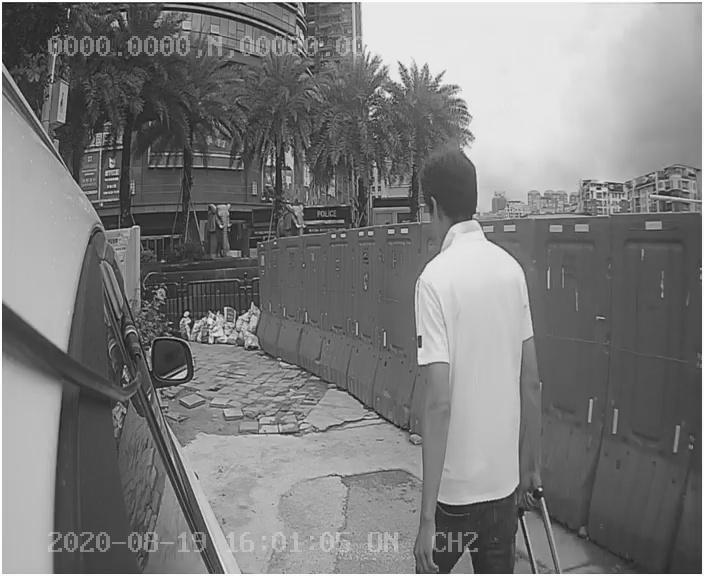person: (362, 148, 561, 528)
